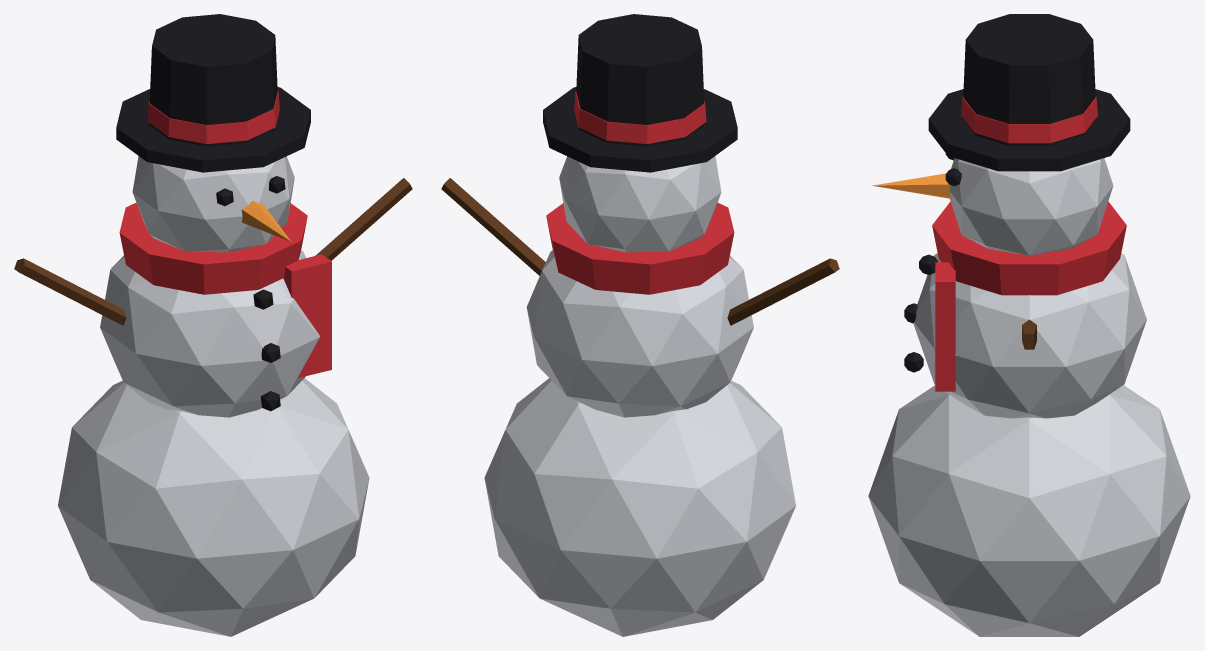
Rendered from Snowman.fbx.
3 renders of one model, left to right at view 1: azimuth 30°, elevation 25°; view 2: azimuth 150°, elevation 25°; view 3: azimuth 270°, elevation 25°, orthographic.
Visible parts, largest first — view 1: Snowman_Snow, Snowman_Coal, Snowman_Red, Snowman_WoodDark, Snowman_Orange; view 2: Snowman_Snow, Snowman_Coal, Snowman_Red, Snowman_WoodDark; view 3: Snowman_Snow, Snowman_Coal, Snowman_Red, Snowman_Orange.
Part boxes in pixels (left/top/right/bottom): Snowman_Snow: left=58, top=156, right=369, bottom=636; Snowman_Coal: left=116, top=14, right=310, bottom=411; Snowman_Red: left=119, top=91, right=331, bottom=377; Snowman_WoodDark: left=14, top=178, right=412, bottom=325; Snowman_Orange: left=241, top=200, right=291, bottom=241; Snowman_Snow: left=484, top=156, right=795, bottom=636; Snowman_Coal: left=543, top=14, right=737, bottom=172; Snowman_Red: left=546, top=91, right=734, bottom=294; Snowman_WoodDark: left=441, top=178, right=839, bottom=325; Snowman_Snow: left=868, top=158, right=1190, bottom=636; Snowman_Coal: left=904, top=14, right=1130, bottom=372; Snowman_Red: left=932, top=96, right=1126, bottom=391; Snowman_Orange: left=872, top=173, right=950, bottom=198.
Bounding box in the file's own units: 685 × 966 × 480.
